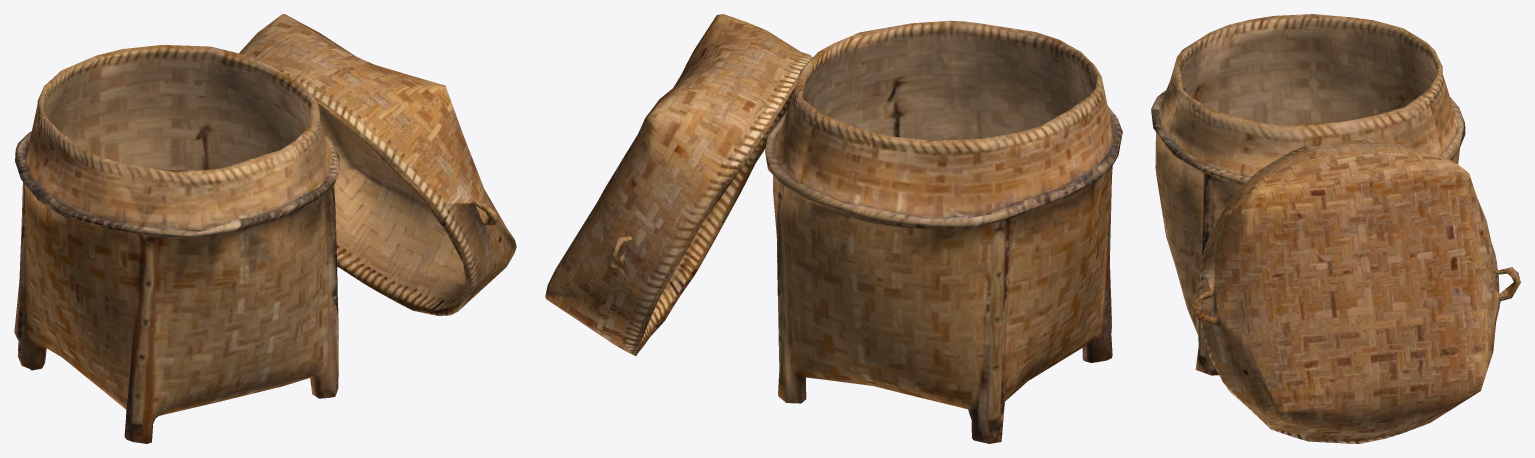
The model's file is picnic-basket-0-mid.glb.
The picture shows the model from 3 angles, left to right: view 1: azimuth 30°, elevation 25°; view 2: azimuth 150°, elevation 25°; view 3: azimuth 270°, elevation 25°; orthographic projection. The views are drawn at different scales.
Visible parts, largest first — view 1: wicker_basket_02_base; view 2: wicker_basket_02_base; view 3: wicker_basket_02_base.
Boxes of the visible parts, <box> form: wicker_basket_02_base: <box>14,14,516,443</box>; wicker_basket_02_base: <box>545,14,1122,443</box>; wicker_basket_02_base: <box>1151,14,1520,443</box>.
Bounding box in the file's own units: 0.6191 × 0.3573 × 0.454.
1 material, 1 textured.
